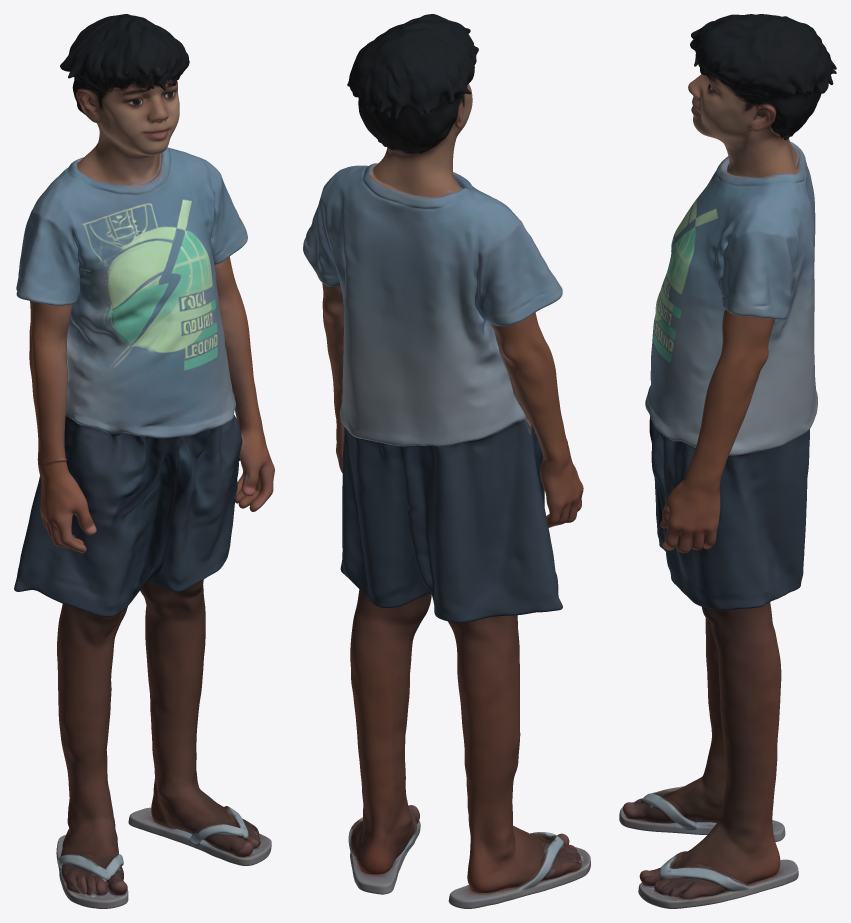
3 views of the same model, side by side, from view 1: azimuth 30°, elevation 25°; view 2: azimuth 150°, elevation 25°; view 3: azimuth 270°, elevation 25° (orthographic). The views are drawn at different scales.
Parts seen in each view (by area): view 1: tripo_node_23bc9811-568e-4c07-958b-a50fb5d89cc9; view 2: tripo_node_23bc9811-568e-4c07-958b-a50fb5d89cc9; view 3: tripo_node_23bc9811-568e-4c07-958b-a50fb5d89cc9.
Boxes of the visible parts, x1,y1,x2,y2 form: tripo_node_23bc9811-568e-4c07-958b-a50fb5d89cc9: (14, 14, 274, 908); tripo_node_23bc9811-568e-4c07-958b-a50fb5d89cc9: (303, 14, 590, 908); tripo_node_23bc9811-568e-4c07-958b-a50fb5d89cc9: (619, 14, 836, 908).
Size of the model in its own units: 0.3018 by 1 by 0.233.
1 material, 1 textured.
